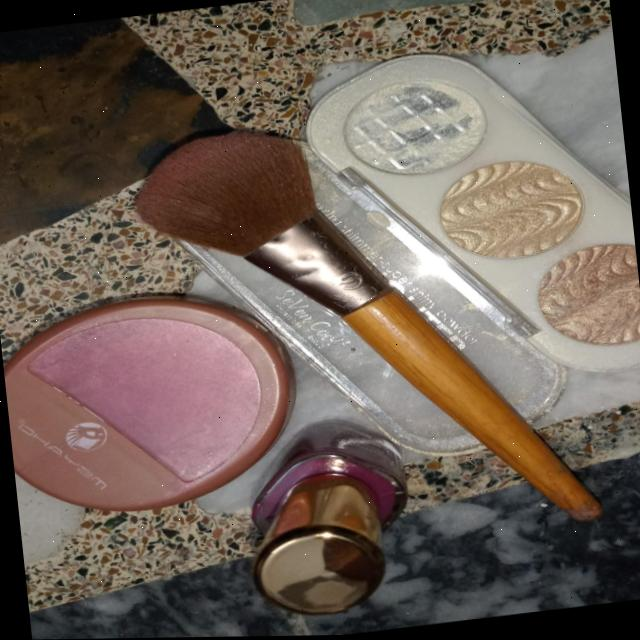blush: (0, 263, 315, 542)
brush: (97, 106, 376, 306)
highlighter: (321, 66, 501, 188)
nail polish: (214, 424, 439, 638)
